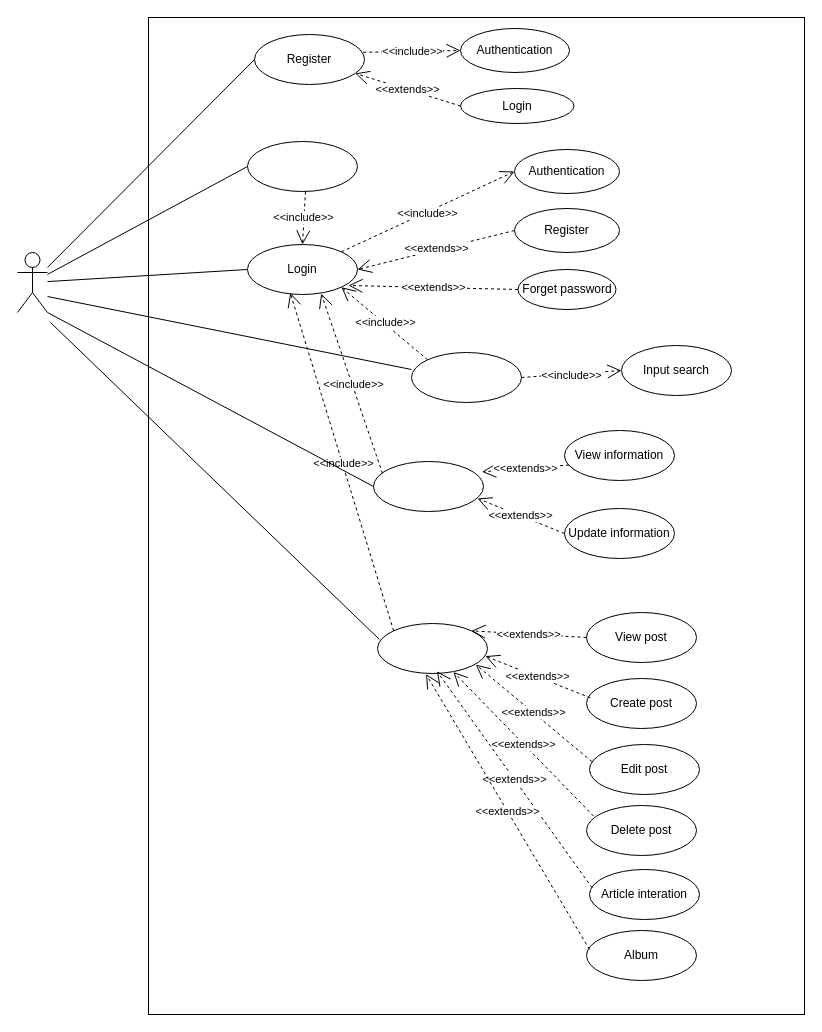
The diagram is 822 pixels wide and 1032 high, and some of its shapes have lost their labels. The centre of each missing label's shape, as x and y in pixels:
"Logout" goes at pixel 302 166.
"Manager account" goes at pixel 428 486.
"Manager post" goes at pixel 432 648.
"Search by keyword" goes at pixel 466 377.
"User" goes at pixel 32 282.
